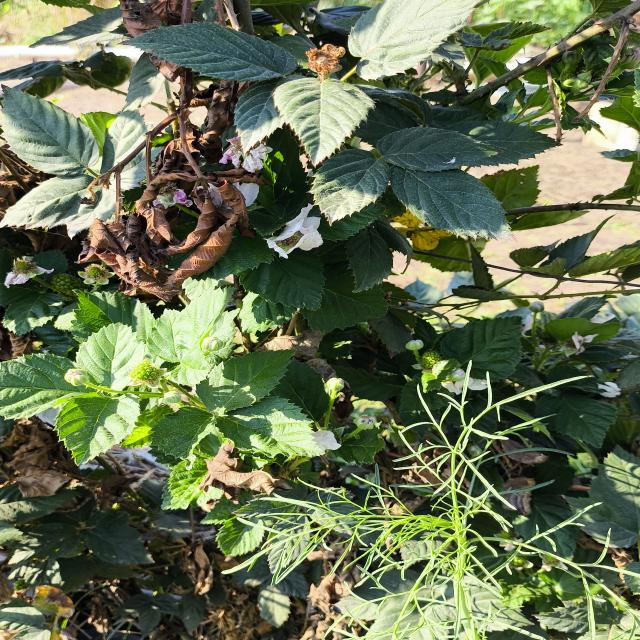boton: (64, 369, 88, 386), (201, 336, 219, 353), (326, 377, 345, 393), (355, 415, 375, 429), (162, 391, 182, 404), (406, 339, 424, 351)
verde: (130, 359, 166, 388), (420, 350, 443, 368)
